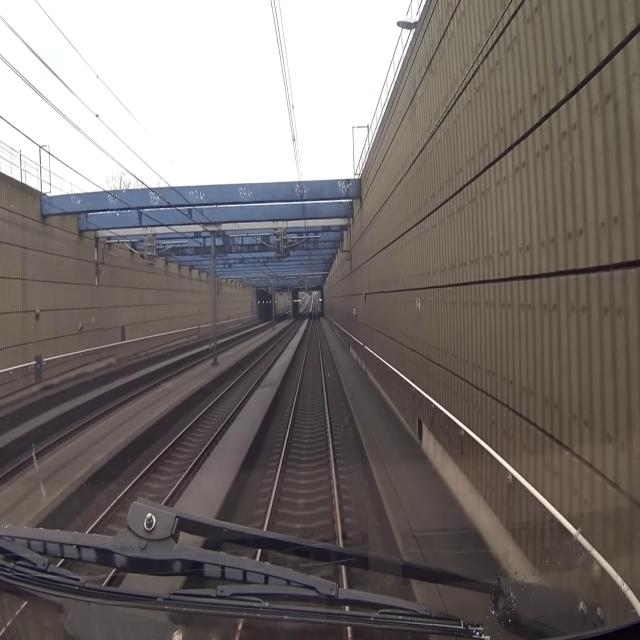rail-track: (89, 309, 307, 536), (266, 308, 339, 546)
